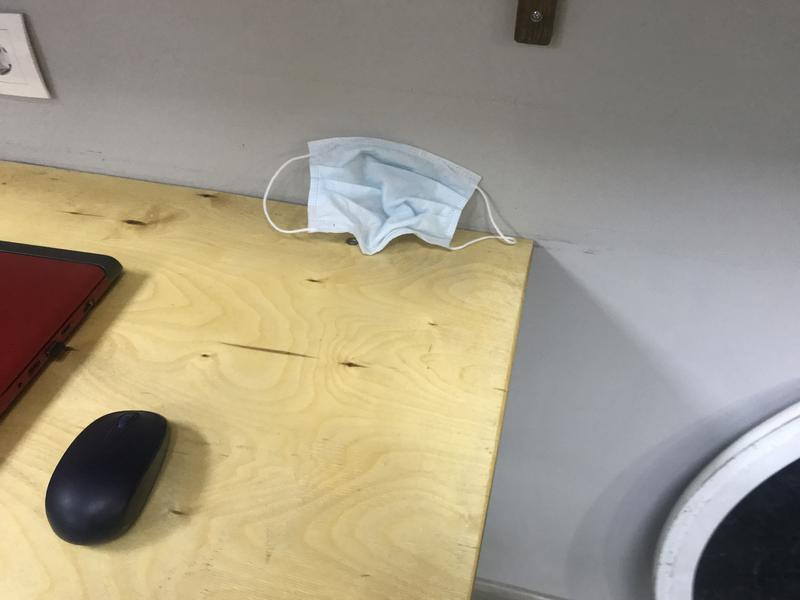medical_mask: (262, 137, 516, 255)
